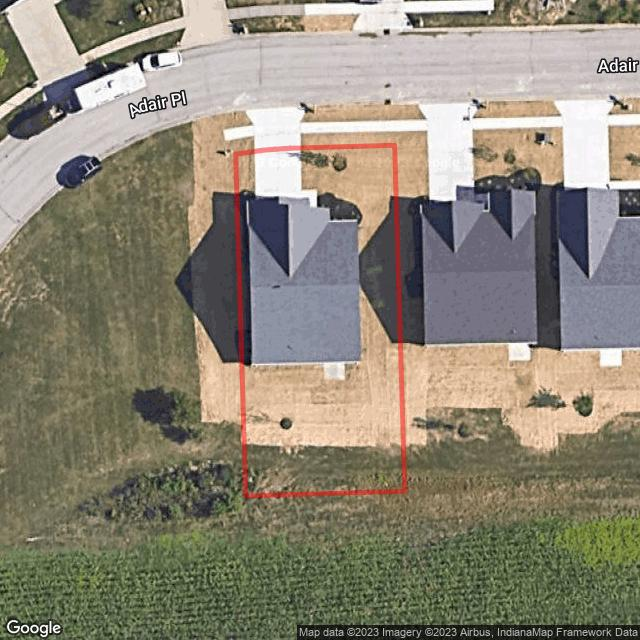Driveway: (255, 151, 317, 209)
Extra Driveway: (244, 108, 308, 148)
Extra Lawn: (301, 106, 393, 123), (301, 132, 395, 146), (230, 111, 254, 129), (234, 138, 255, 152)
Extra Sidewalk: (301, 122, 394, 135), (231, 126, 254, 141)
House: (249, 198, 361, 362)
Other: (324, 362, 345, 379)
